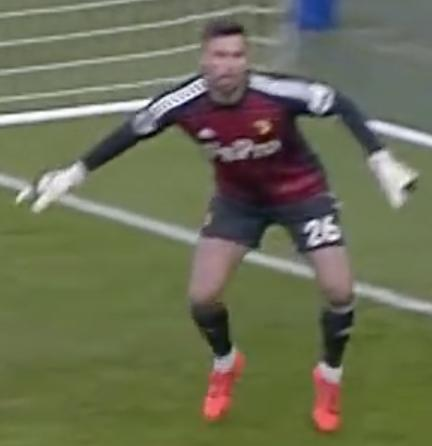goalkeeper: (14, 10, 432, 446)
